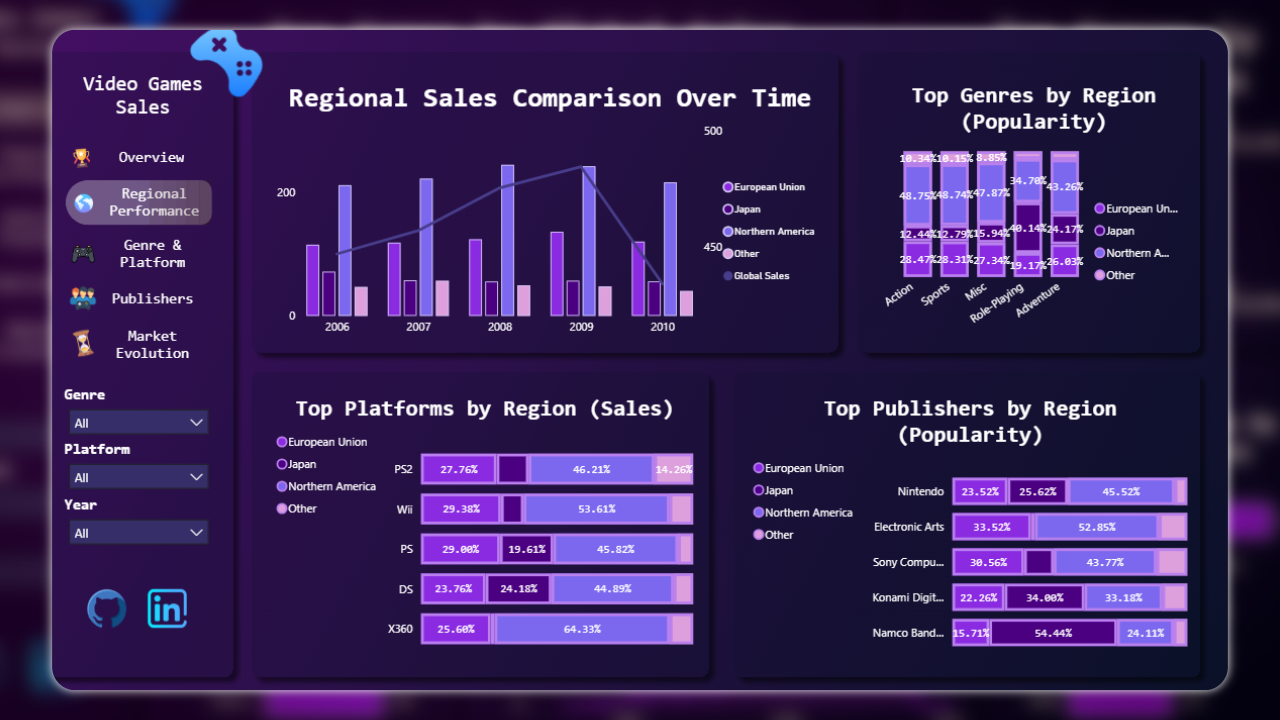

The dashboard page shown, as its layout file describes it:
{"tool":"powerbi","page":{"name":"Regional Performance","canvas":[1280,720],"ordinal":1},"visuals":[{"type":"hundredPercentStackedColumnChart","title":"Top Genres by Region (Popularity)","fields":{"Y":["Sum(vgsales.European Union Saels)","Sum(vgsales.Japan Sales)","Sum(vgsales.Northern America Sales)","Sum(vgsales.Other Sales)"],"Category":["vgsales.Genre"]},"box":[886.1,43.6,361.2,307.7],"z":0},{"type":"lineClusteredColumnComboChart","title":"Regional Sales Comparison Over Time","fields":{"Y":["Sum(vgsales.European Union Saels)","Sum(vgsales.Japan Sales)","Sum(vgsales.Northern America Sales)","Sum(vgsales.Other Sales)"],"Category":["vgsales.Year"],"Y2":["vgsales.Total Global Sales"]},"box":[233.5,43.6,620.9,307.7],"z":1000},{"type":"shape","box":[10.3,25.8,188.4,94.2],"z":2000},{"type":"image","box":[11,109.1,54.2,64.5],"z":3000},{"type":"image","box":[14.2,165.2,51.6,50.3],"z":4000},{"type":"shape","box":[33.5,149.7,165.2,78.7],"z":5000},{"type":"shape","box":[32.9,109.1,161.3,60.6],"z":6000},{"type":"shape","box":[5.2,149.7,188.4,78.7],"z":7000},{"type":"shape","box":[149.7,149.7,43.9,78.7],"z":8000},{"type":"shape","box":[136.8,149.7,43.9,78.7],"z":9000},{"type":"shape","box":[123.9,149.7,42.6,78.7],"z":10000},{"type":"shape","box":[109.7,149.7,43.9,78.7],"z":11000},{"type":"shape","box":[95.5,149.7,43.9,78.7],"z":12000},{"type":"shape","box":[33.5,205.2,161.3,77.4],"z":13000},{"type":"shape","box":[33.5,262.2,161.5,61.1],"z":14000},{"type":"shape","box":[33.5,301.9,161.3,80],"z":15000},{"type":"image","box":[11.6,215.5,55.5,59.4],"z":16000},{"type":"image","box":[10.3,261.9,59.4,60.6],"z":17000},{"type":"image","box":[9,309.7,61.9,61.9],"z":18000},{"type":"slicer","title":"Genre","fields":{"Values":["vgsales.Genre"]},"box":[14.2,386.7,165.7,58.4],"z":19000},{"type":"slicer","title":"Platform","fields":{"Values":["vgsales.Platform"]},"box":[14.2,445.1,165.7,60],"z":20000},{"type":"slicer","title":"Year","fields":{"Values":["vgsales.Year"]},"box":[14.2,505.1,165.7,60],"z":21000},{"type":"image","box":[88.4,591.4,84,72],"z":22000},{"type":"image","box":[25.1,591.4,80.8,72],"z":23000},{"type":"actionButton","box":[14.2,120,163.7,38.2],"z":24000},{"type":"actionButton","box":[14.2,219.4,165.2,50.3],"z":25000},{"type":"actionButton","box":[12.9,267.1,165.2,50.3],"z":26000},{"type":"actionButton","box":[14.2,317.4,165.2,50.3],"z":27000},{"type":"hundredPercentStackedBarChart","title":"Top Platforms by Region (Sales)","fields":{"Category":["vgsales.Platform"],"Y":["Sum(vgsales.European Union Saels)","Sum(vgsales.Japan Sales)","Sum(vgsales.Northern America Sales)","Sum(vgsales.Other Sales)"]},"box":[233.5,381.9,480.1,317.5],"z":28000},{"type":"hundredPercentStackedBarChart","title":"Top Publishers by Region (Popularity)","fields":{"Y":["Sum(vgsales.European Union Saels)","Sum(vgsales.Japan Sales)","Sum(vgsales.Northern America Sales)","Sum(vgsales.Other Sales)"],"Category":["vgsales.Publisher"]},"box":[748.6,381.9,498.7,317.5],"z":29000}]}

Visuals, with their boxes in screenshot pixels (x1, y1, x2, y2), scaled from the page's 1280x720 canvas onto the 1280x720 screenshot:
"Top Genres by Region (Popularity)" hundredPercentStackedColumnChart: BBox(886, 44, 1247, 351)
"Regional Sales Comparison Over Time" lineClusteredColumnComboChart: BBox(234, 44, 854, 351)
shape: BBox(10, 26, 199, 120)
image: BBox(11, 109, 65, 174)
image: BBox(14, 165, 66, 216)
shape: BBox(34, 150, 199, 228)
shape: BBox(33, 109, 194, 170)
shape: BBox(5, 150, 194, 228)
shape: BBox(150, 150, 194, 228)
shape: BBox(137, 150, 181, 228)
shape: BBox(124, 150, 166, 228)
shape: BBox(110, 150, 154, 228)
shape: BBox(96, 150, 139, 228)
shape: BBox(34, 205, 195, 283)
shape: BBox(34, 262, 195, 323)
shape: BBox(34, 302, 195, 382)
image: BBox(12, 216, 67, 275)
image: BBox(10, 262, 70, 322)
image: BBox(9, 310, 71, 372)
"Genre" slicer: BBox(14, 387, 180, 445)
"Platform" slicer: BBox(14, 445, 180, 505)
"Year" slicer: BBox(14, 505, 180, 565)
image: BBox(88, 591, 172, 663)
image: BBox(25, 591, 106, 663)
actionButton: BBox(14, 120, 178, 158)
actionButton: BBox(14, 219, 179, 270)
actionButton: BBox(13, 267, 178, 317)
actionButton: BBox(14, 317, 179, 368)
"Top Platforms by Region (Sales)" hundredPercentStackedBarChart: BBox(234, 382, 714, 699)
"Top Publishers by Region (Popularity)" hundredPercentStackedBarChart: BBox(749, 382, 1247, 699)
